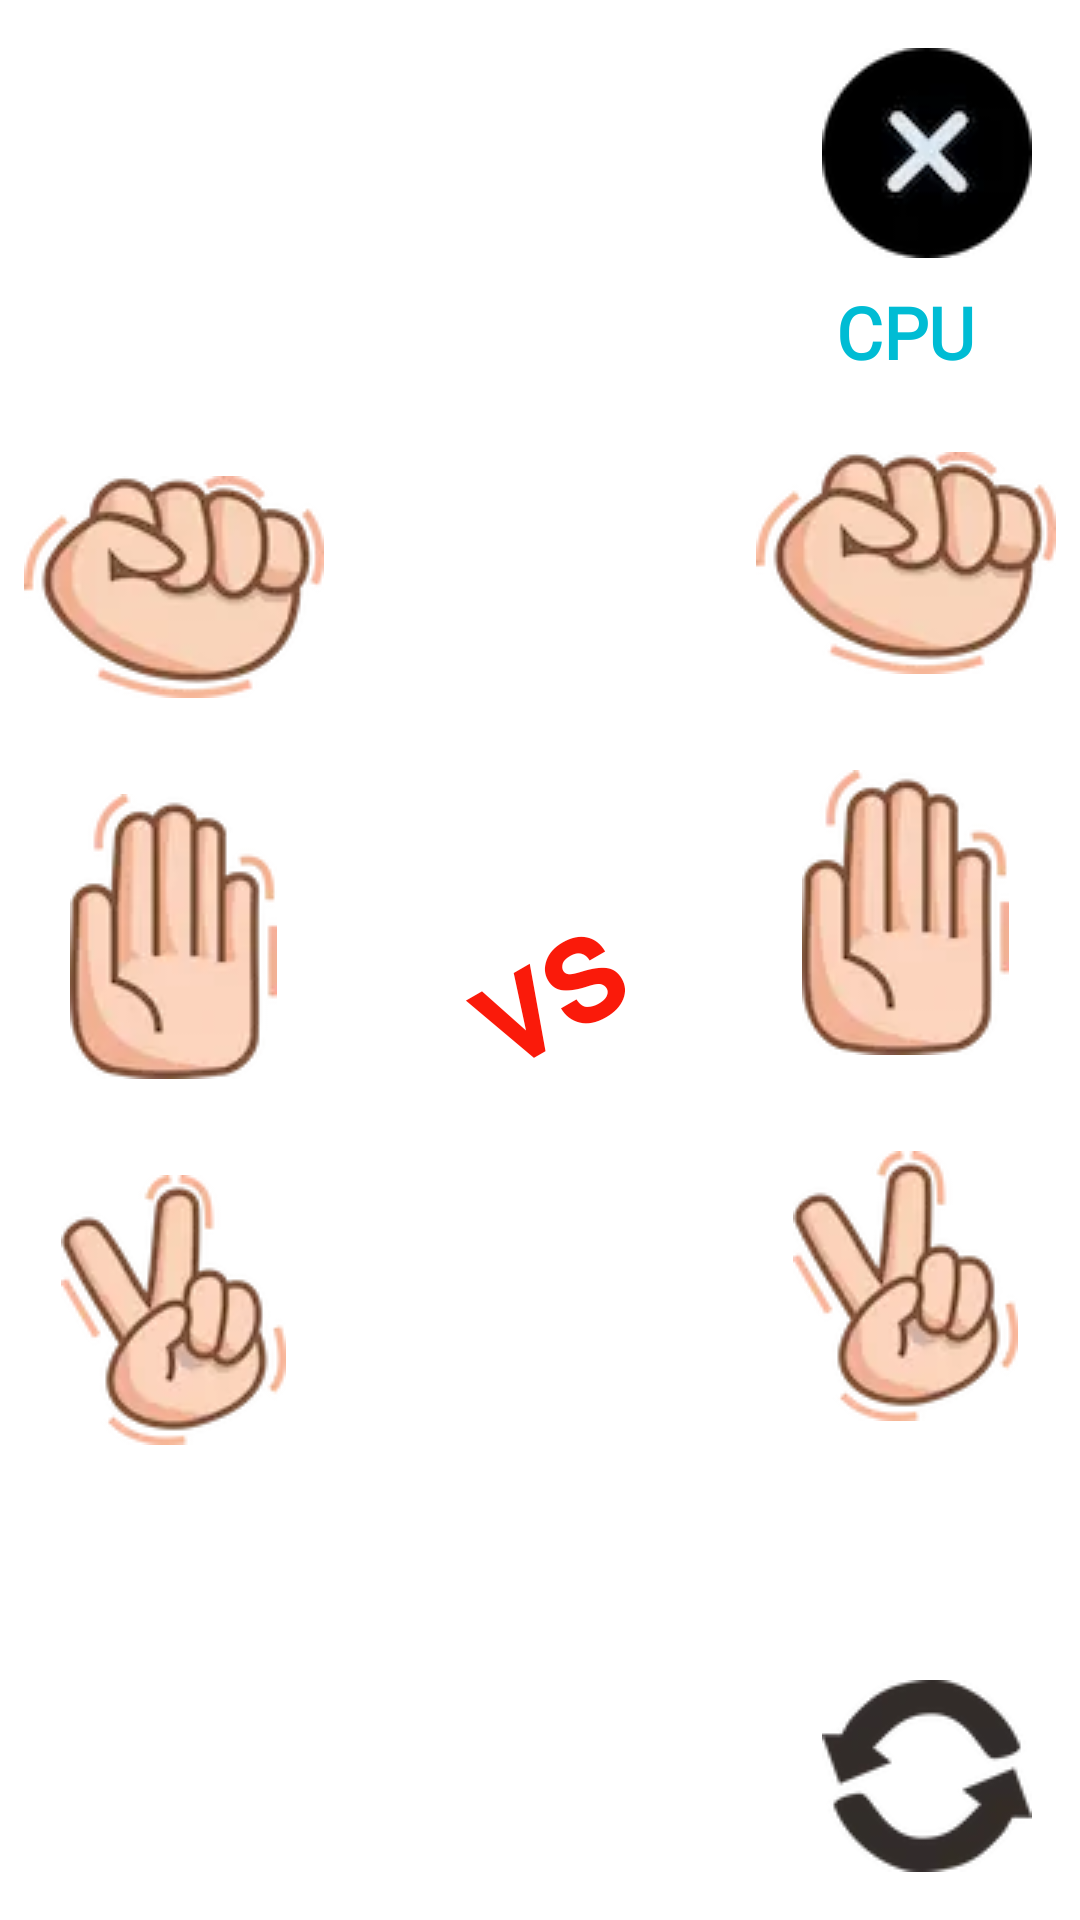

Named icons in this screenshot (1080×1920) and their bounding boxes, (x1, y1, x2, y2):
batu: (756, 452, 1056, 674), (24, 476, 324, 698)
close: (822, 48, 1032, 258)
gunting: (793, 1151, 1018, 1421), (61, 1175, 286, 1445)
kertas: (802, 770, 1009, 1055), (70, 794, 277, 1079)
refresh: (822, 1680, 1032, 1872)
